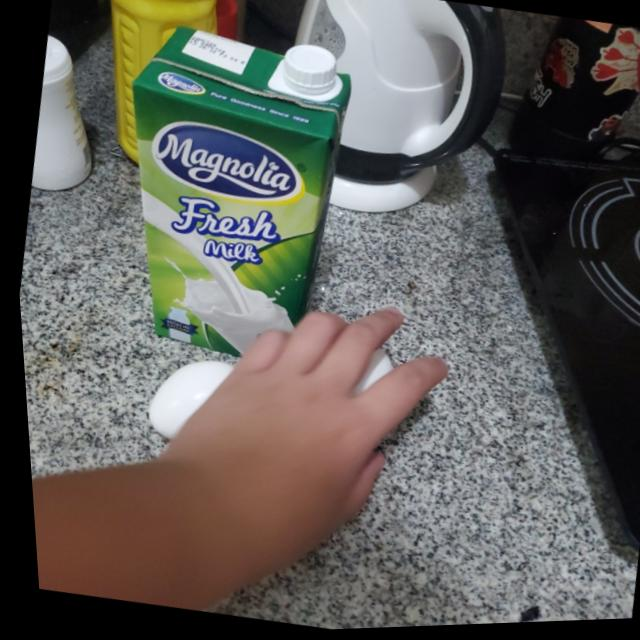egg: (136, 353, 244, 455), (312, 330, 406, 425)
milk: (82, 13, 371, 373)
